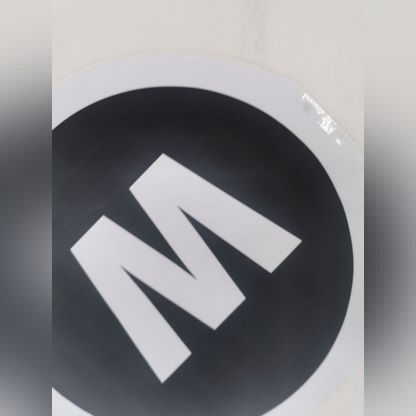W: (59, 124, 352, 408)
